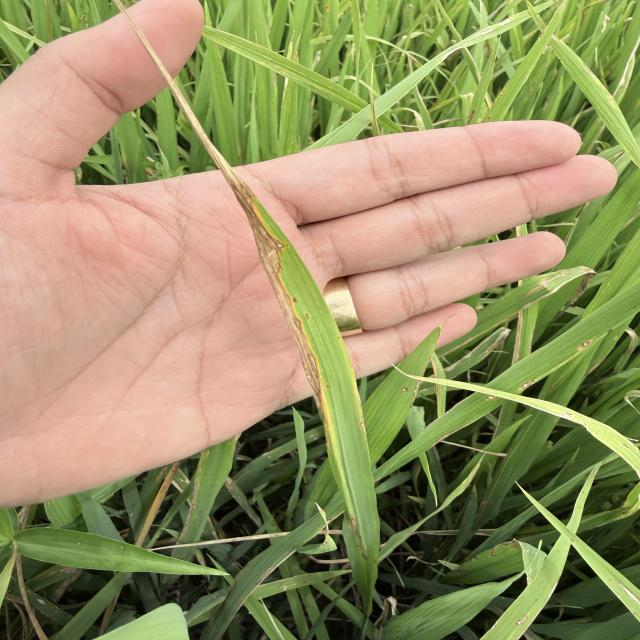Chay bia la: (112, 1, 324, 413)
